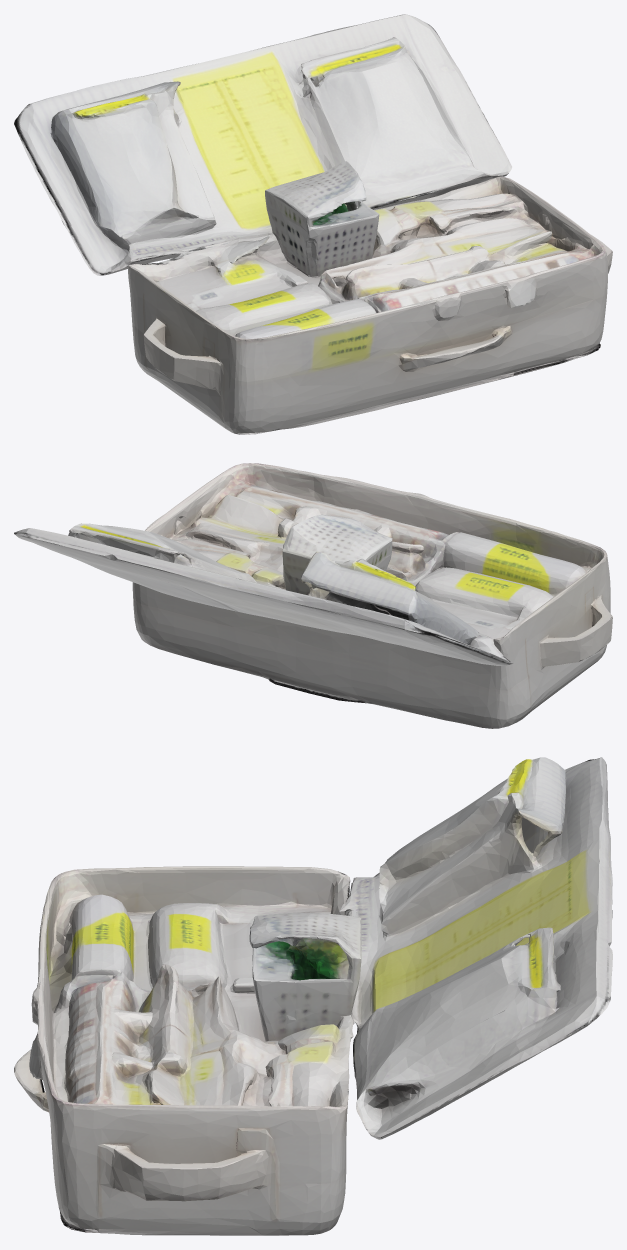
File: AmbulatoryMedicalPack.glb
3 renders of one model, top to bottom at view 1: azimuth 30°, elevation 25°; view 2: azimuth 150°, elevation 25°; view 3: azimuth 270°, elevation 25°, orthographic. The views are drawn at different scales.
Visible parts, largest first — view 1: world; view 2: world; view 3: world.
Boxes of the visible parts, left/top/right/bottom form: world: left=14, top=14, right=612, bottom=434; world: left=14, top=463, right=612, bottom=728; world: left=14, top=757, right=612, bottom=1235.
Size of the model in its own units: 1 by 0.4543 by 0.9057.
Materials: 1 (1 with a texture image).
